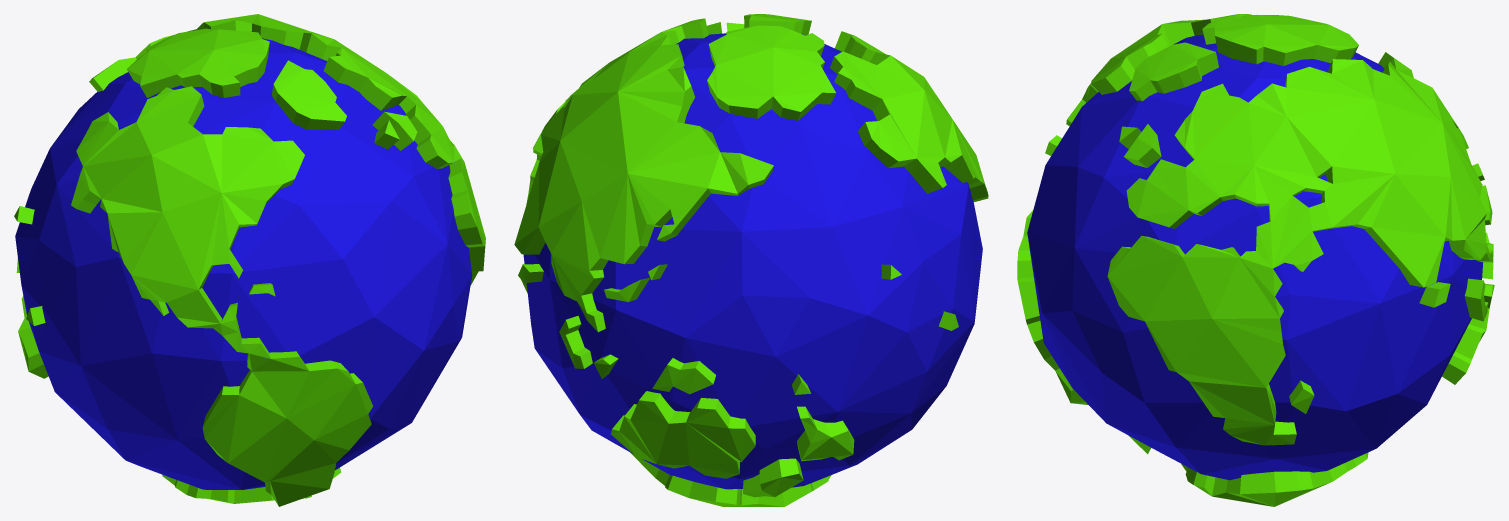
File: earth.fbx
3 views of the same model, side by side, from view 1: azimuth 30°, elevation 25°; view 2: azimuth 150°, elevation 25°; view 3: azimuth 270°, elevation 25° (orthographic). The views are drawn at different scales.
Parts seen in each view (by area): view 1: water a, earth low poly exaggerated; view 2: water a, earth low poly exaggerated; view 3: earth low poly exaggerated, water a.
Boxes of the visible parts, bbox=[...] form: water a: bbox=[15, 38, 472, 489]; earth low poly exaggerated: bbox=[14, 14, 485, 506]; water a: bbox=[523, 33, 982, 489]; earth low poly exaggerated: bbox=[514, 14, 988, 506]; earth low poly exaggerated: bbox=[1017, 14, 1494, 506]; water a: bbox=[1027, 35, 1482, 480].
Bounding box in the file's own units: 213 × 221 × 212.
